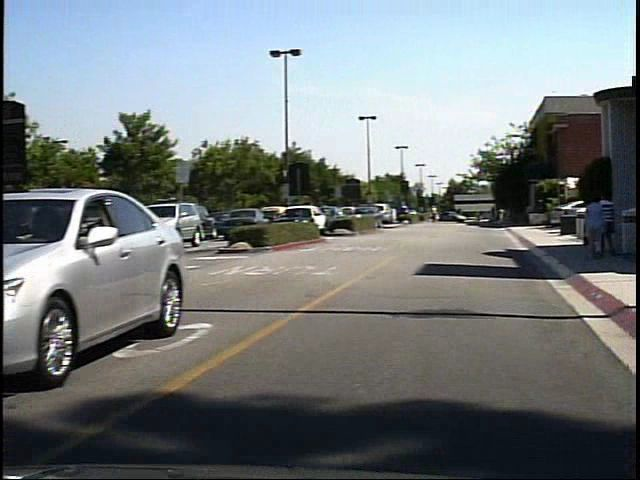person: (591, 191, 617, 265), (607, 191, 626, 257), (438, 205, 449, 225)
